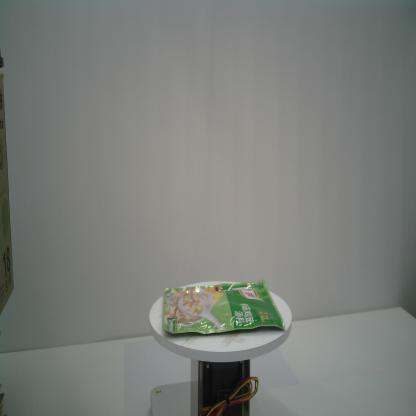Seasoner: (162, 279, 286, 336)
